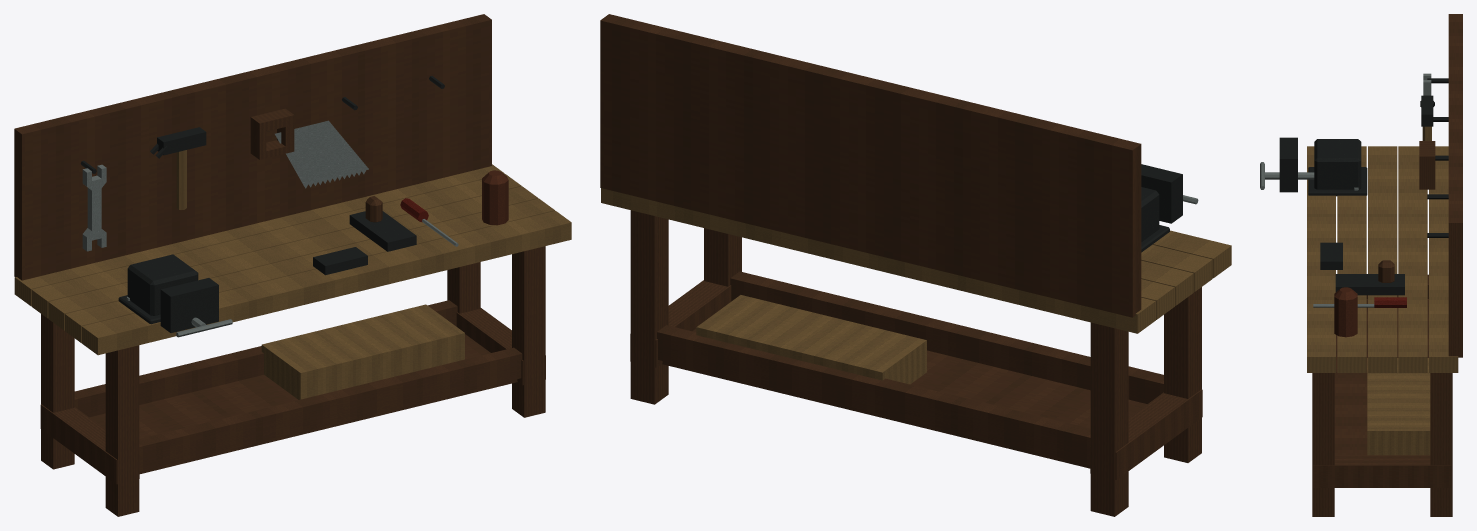
The model's file is level_work_repair_bench.glb.
The picture shows the model from 3 angles, left to right: view 1: azimuth 30°, elevation 25°; view 2: azimuth 150°, elevation 25°; view 3: azimuth 270°, elevation 25°; orthographic projection. The views are drawn at different scales.
Parts seen in each view (by area): view 1: level_work_repair_bench; view 2: level_work_repair_bench; view 3: level_work_repair_bench.
Boxes of the visible parts, bbox=[...] form: level_work_repair_bench: bbox=[14, 14, 571, 516]; level_work_repair_bench: bbox=[600, 14, 1231, 516]; level_work_repair_bench: bbox=[1260, 14, 1462, 516].
Size of the model in its own units: 2.45 by 1.64 by 0.997.
6 materials, 6 textured.
